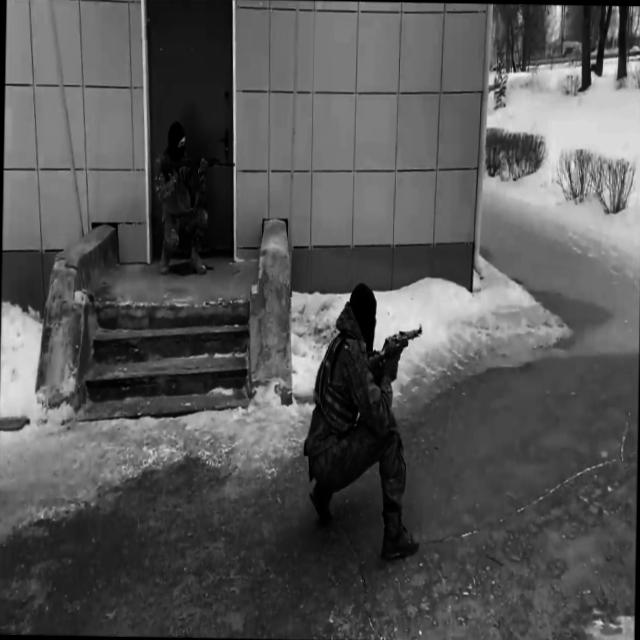gun: (367, 322, 422, 381), (160, 154, 235, 192), (387, 338, 408, 358)
person with a gun: (304, 280, 424, 562), (152, 121, 236, 276)
